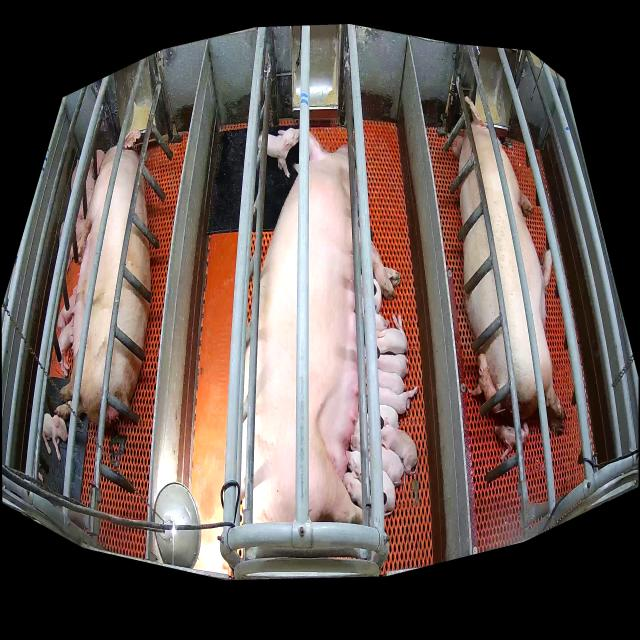pig: (241, 135, 401, 524), (452, 95, 566, 437), (56, 129, 151, 428), (350, 425, 404, 484), (346, 451, 395, 516), (381, 418, 418, 475), (468, 353, 501, 412), (267, 128, 300, 177), (495, 423, 529, 460), (376, 314, 407, 353), (43, 414, 68, 460), (380, 386, 418, 413), (58, 316, 74, 377), (58, 286, 77, 330), (378, 353, 408, 378), (343, 471, 362, 508), (378, 369, 404, 394), (380, 405, 399, 428), (541, 250, 552, 286), (376, 313, 387, 331)
